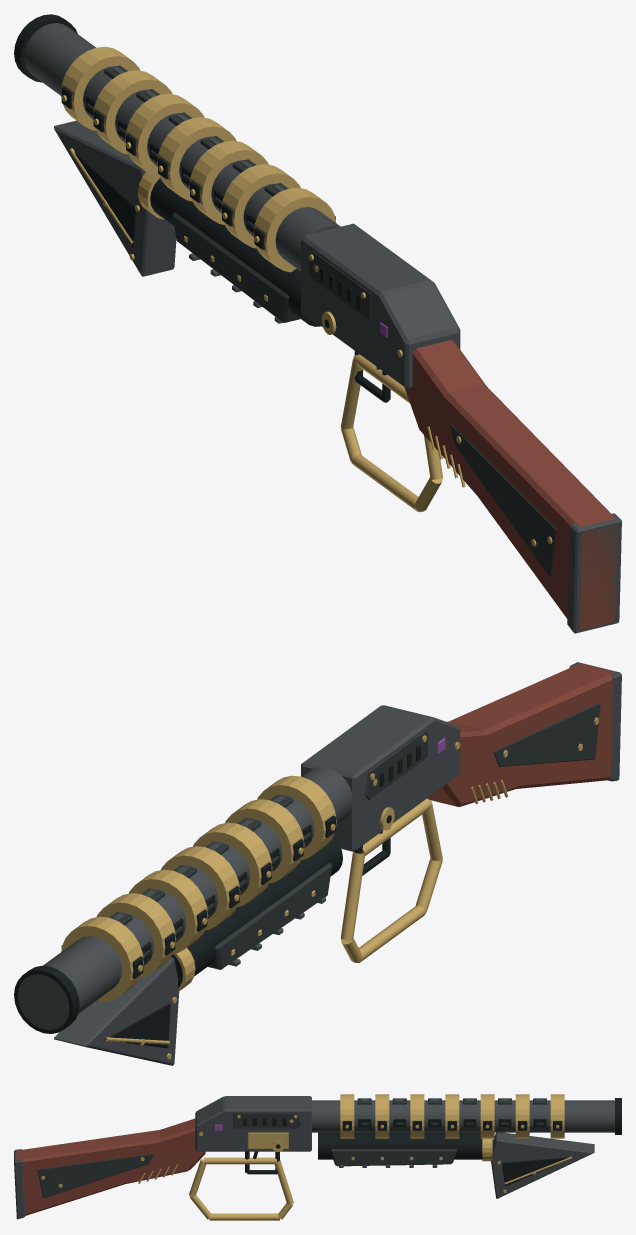
Rendered from slug_3.glb.
The picture shows the model from 3 angles, top to bottom: view 1: azimuth 30°, elevation 25°; view 2: azimuth 150°, elevation 25°; view 3: azimuth 270°, elevation 25°; orthographic projection. The views are drawn at different scales.
Visible parts, largest first — view 1: Weapon_slug_v1; view 2: Weapon_slug_v1; view 3: Weapon_slug_v1.
Boxes of the visible parts, box(x1,y1,x2,y2) form: Weapon_slug_v1: box(14, 14, 621, 633); Weapon_slug_v1: box(14, 662, 621, 1065); Weapon_slug_v1: box(14, 1094, 621, 1220).
Bounding box in the file's own units: 0.084 × 0.234 × 1.04.
